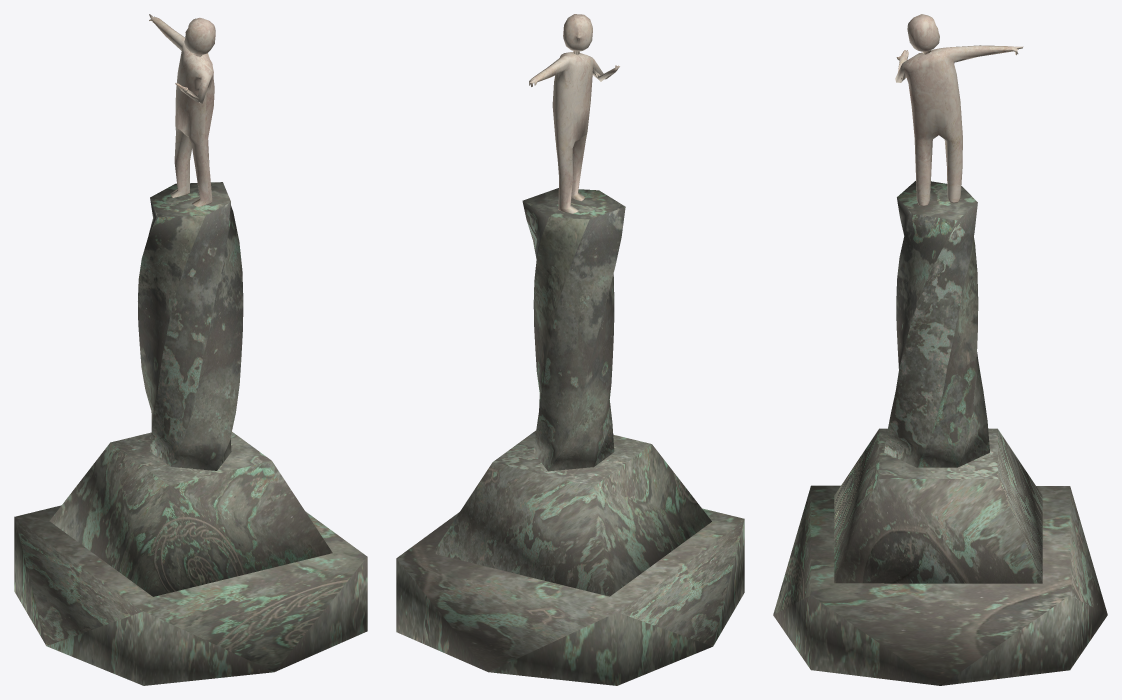
File: tower-colon1.fbx
3 renders of one model, left to right at view 1: azimuth 30°, elevation 25°; view 2: azimuth 150°, elevation 25°; view 3: azimuth 270°, elevation 25°, orthographic.
Parts seen in each view (by area): view 1: tower-colon; view 2: tower-colon; view 3: tower-colon.
Boxes of the visible parts, x1=… form: tower-colon: x1=14, y1=14, x2=367, y2=685; tower-colon: x1=396, y1=14, x2=744, y2=685; tower-colon: x1=773, y1=14, x2=1107, y2=685.
Bounding box in the file's own units: 487 × 487 × 963.
